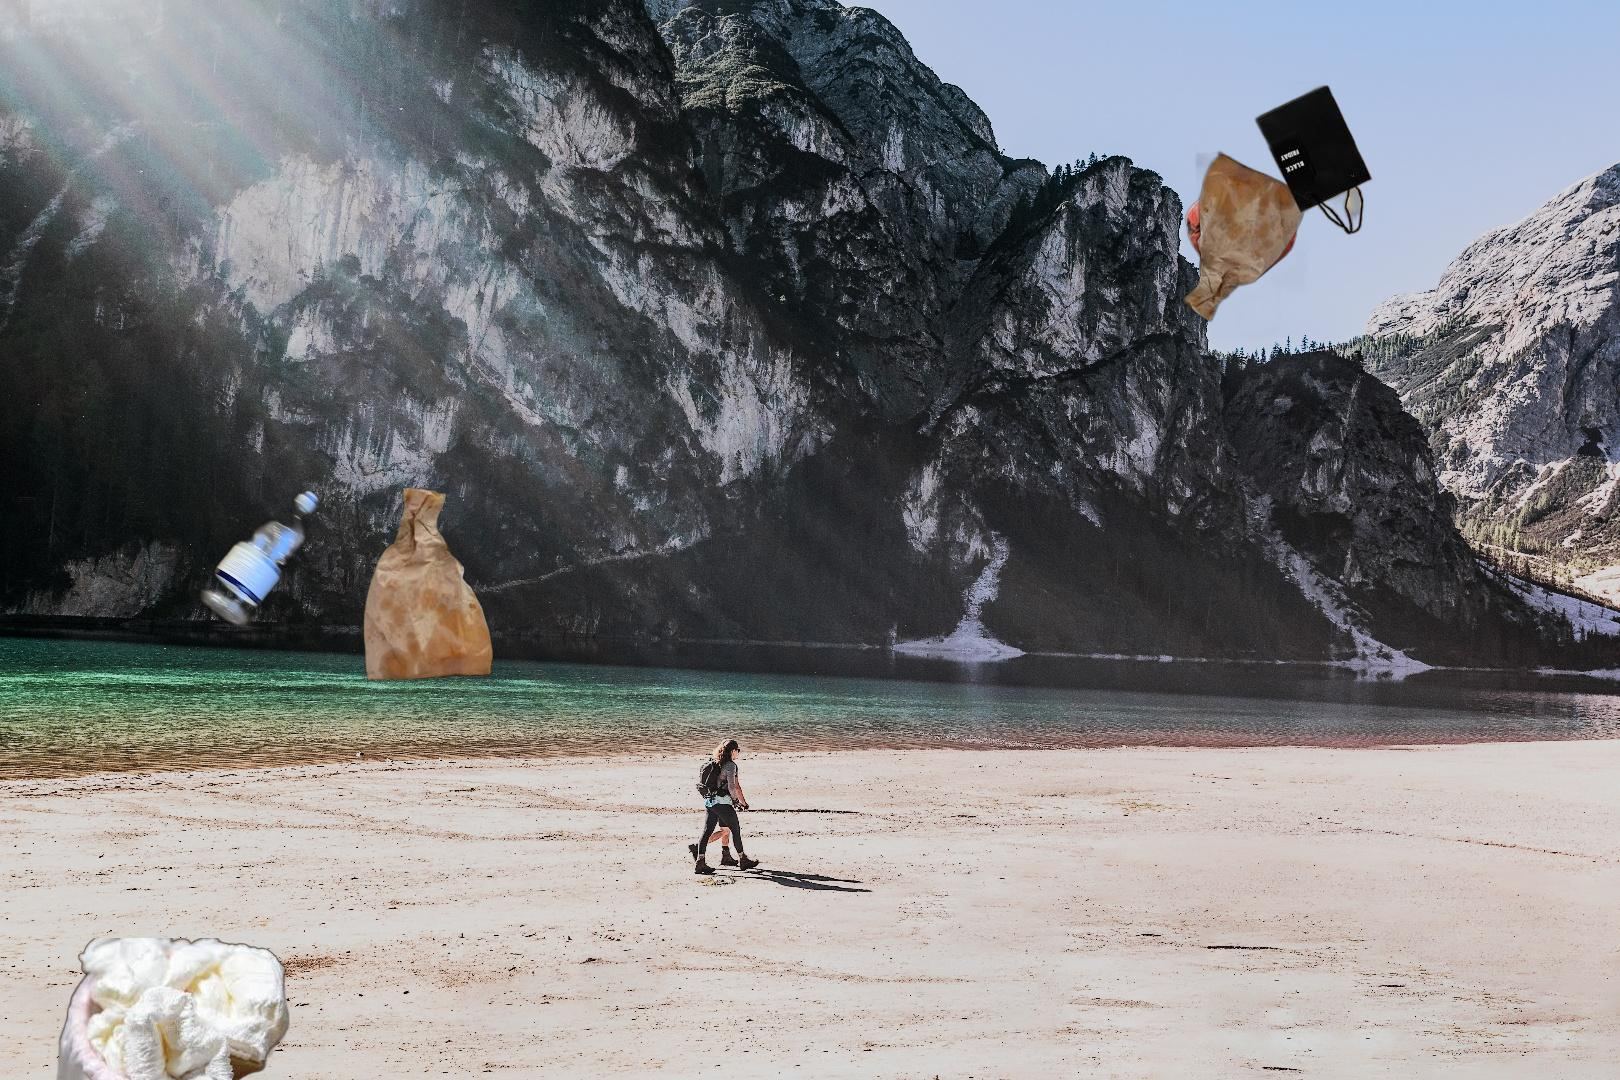biological: (1182, 174, 1301, 283), (1557, 277, 1620, 445)
paper-bag: (1178, 81, 1375, 340), (360, 481, 495, 683)
plastic-bottles: (194, 486, 327, 642)
trash: (49, 938, 292, 1080)
